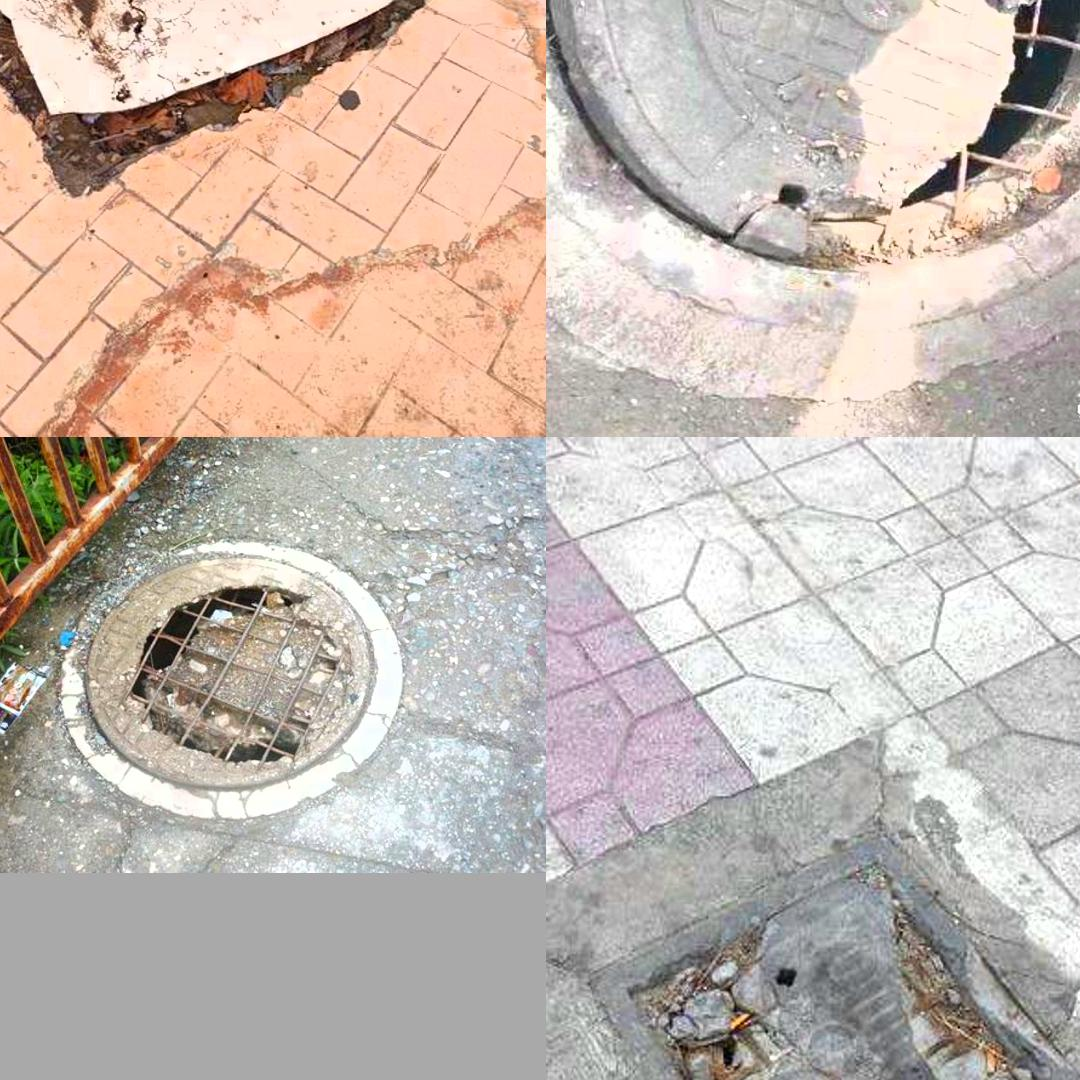broke: (555, 0, 1080, 368), (584, 816, 1080, 1080), (0, 0, 439, 224), (69, 547, 411, 823)
